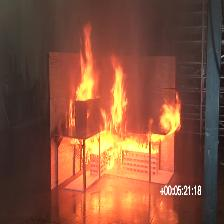fire: (69, 99, 180, 170), (75, 23, 98, 100), (109, 52, 127, 132)
